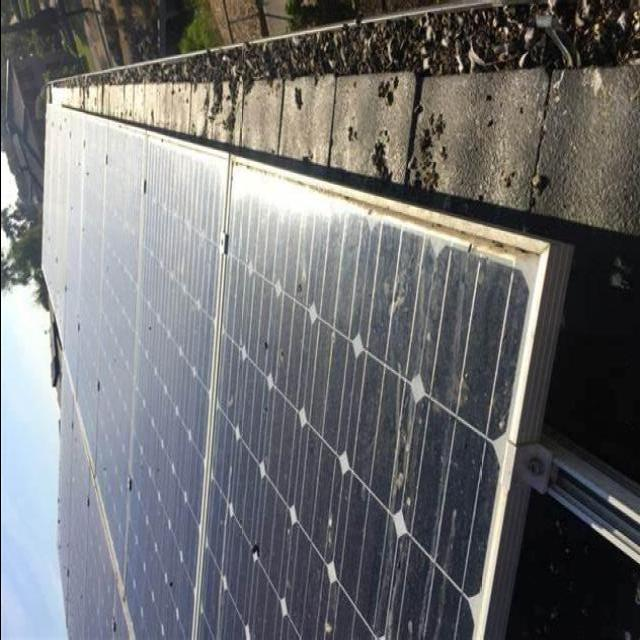soiled: (198, 174, 542, 640)
